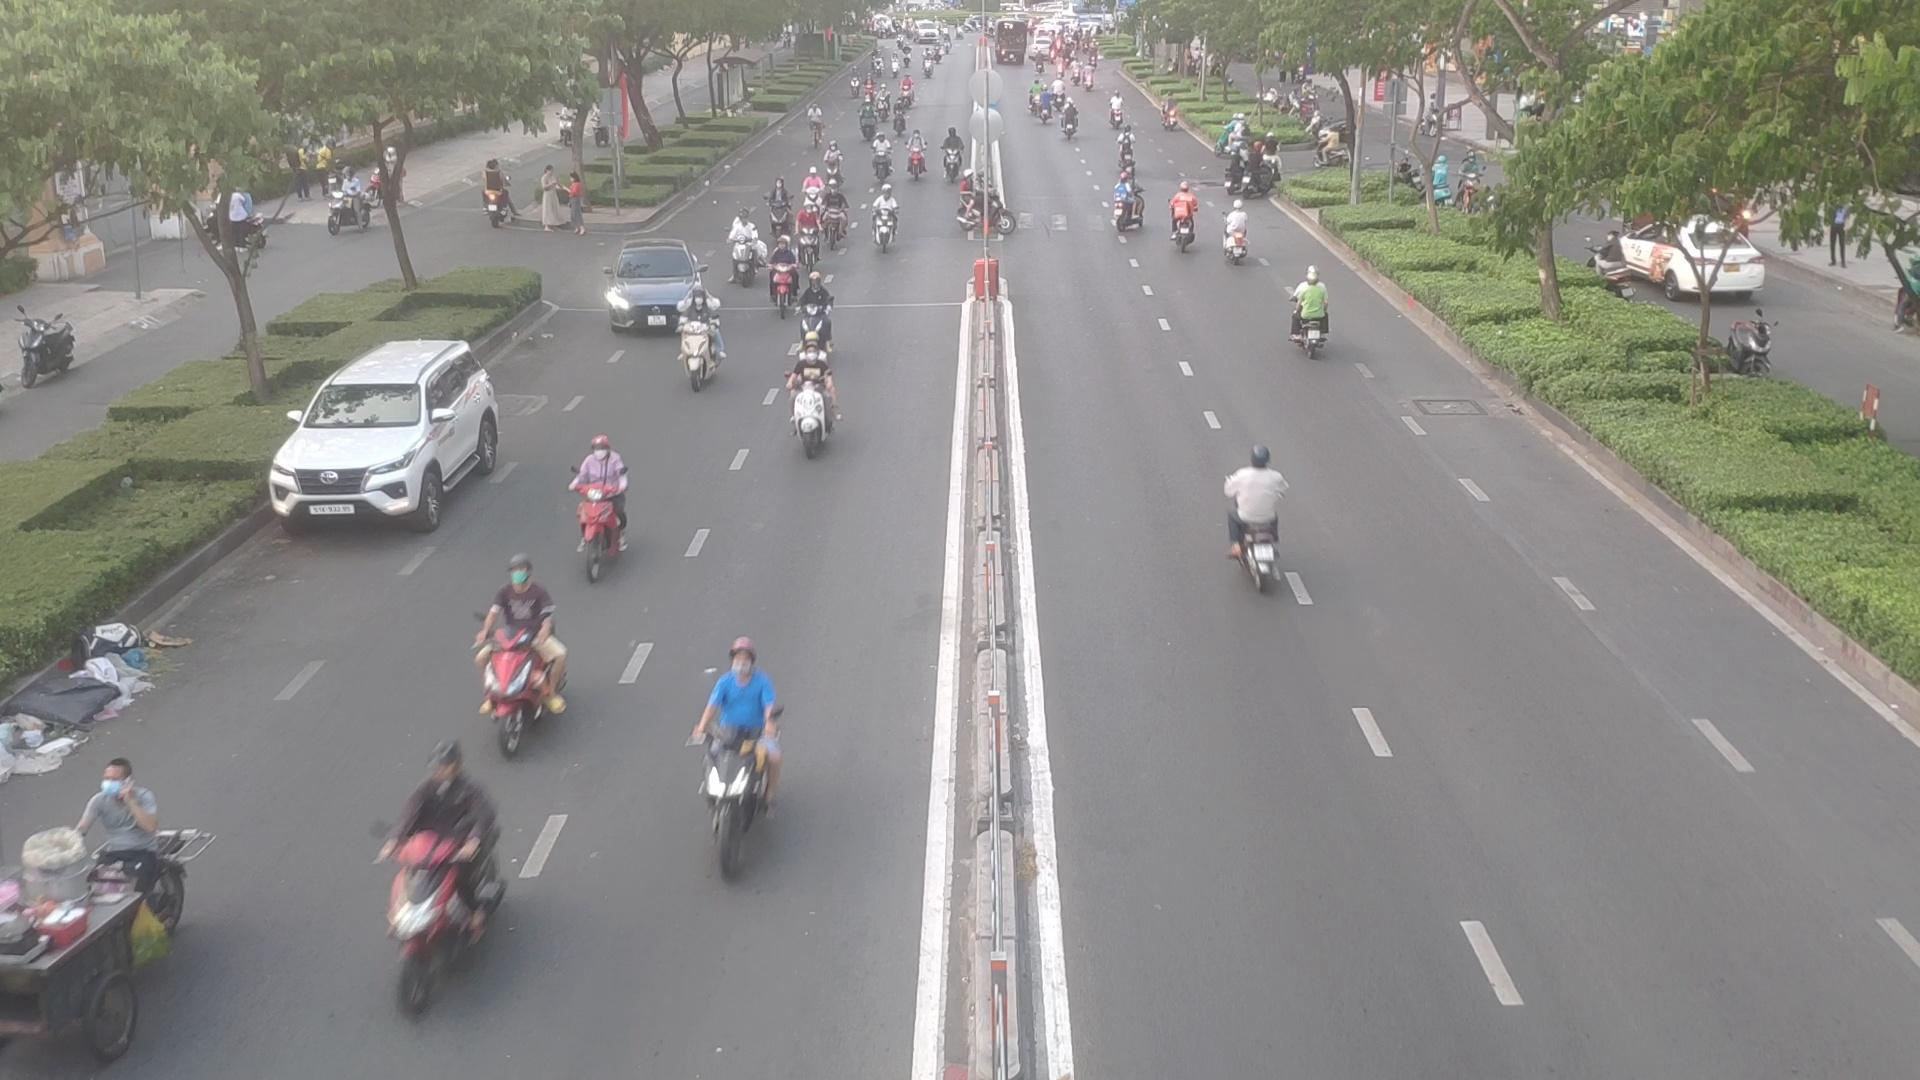car: (272, 342, 516, 531), (596, 245, 717, 336)
motorbike: (367, 764, 513, 1005), (686, 650, 791, 873), (74, 775, 179, 920), (473, 616, 574, 752), (1224, 447, 1300, 589), (465, 574, 556, 680), (562, 436, 637, 564), (781, 349, 848, 459), (1279, 277, 1338, 357), (674, 319, 735, 392), (956, 177, 1015, 239), (764, 244, 804, 316), (719, 218, 762, 282), (1167, 187, 1203, 253), (1217, 200, 1254, 264), (866, 193, 902, 252), (1112, 179, 1150, 233), (822, 181, 848, 249), (796, 204, 822, 266), (764, 179, 789, 233), (822, 140, 847, 189), (1113, 124, 1139, 170), (907, 138, 934, 183), (942, 128, 963, 183), (800, 167, 822, 223), (870, 132, 894, 173), (1058, 105, 1084, 141)
